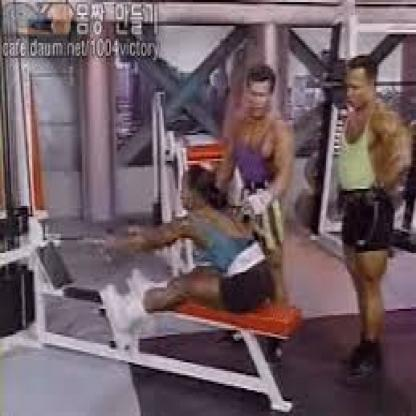Seated Cable Rows: (0, 108, 307, 416)
